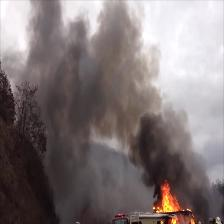fire: (157, 183, 179, 212)
smoke: (42, 42, 151, 122), (138, 130, 185, 174)
